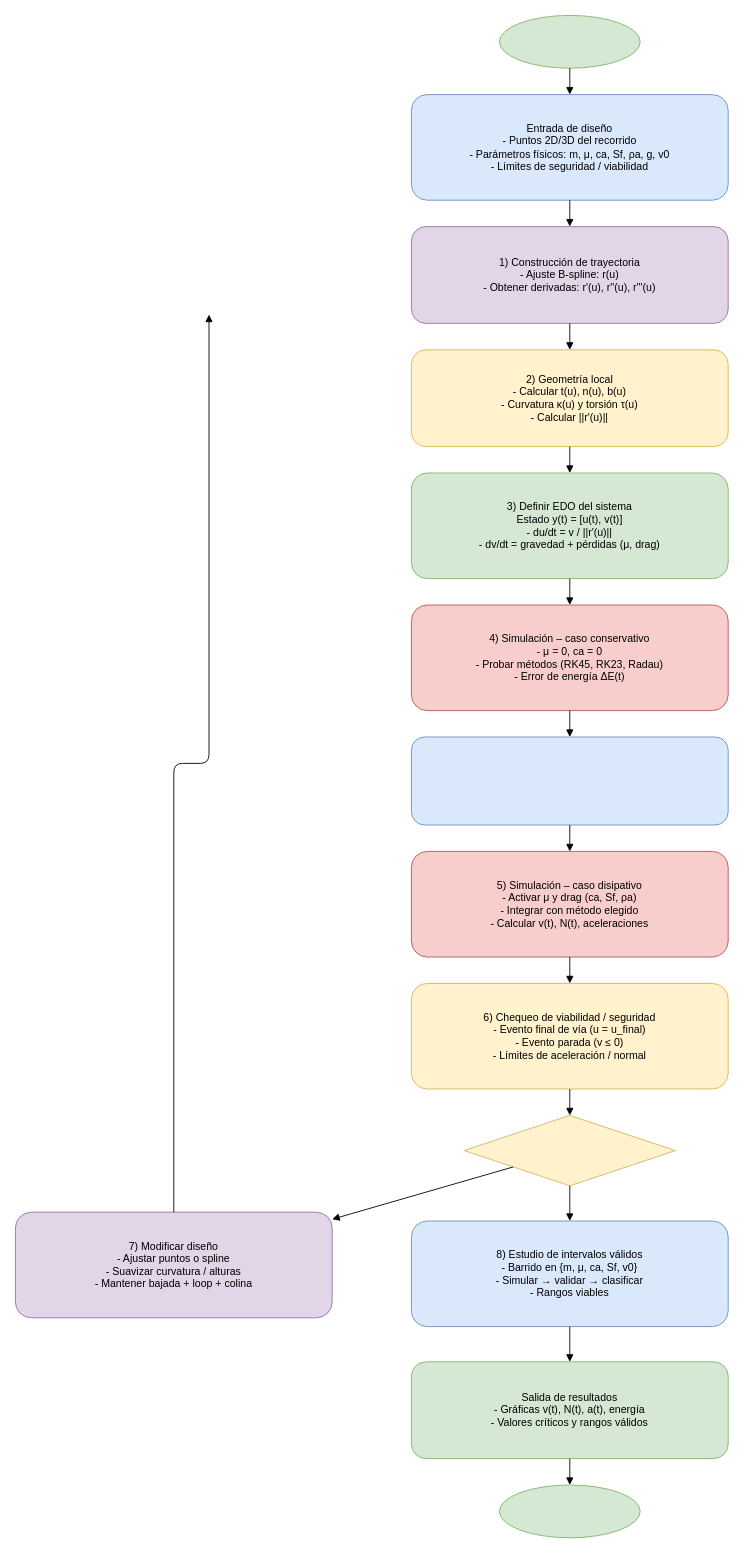
The diagram is 744 pixels wide and 1553 high, and some of its shapes have lost their labels. Each missing label, with the box of its shape:
FIN: (499, 1484, 640, 1538)
INICIO: (499, 15, 640, 68)
Selección de método - Mejor conservación de energía - Estabilidad numérica: (411, 736, 728, 825)
¿Viable y seguro?: (463, 1115, 675, 1186)
